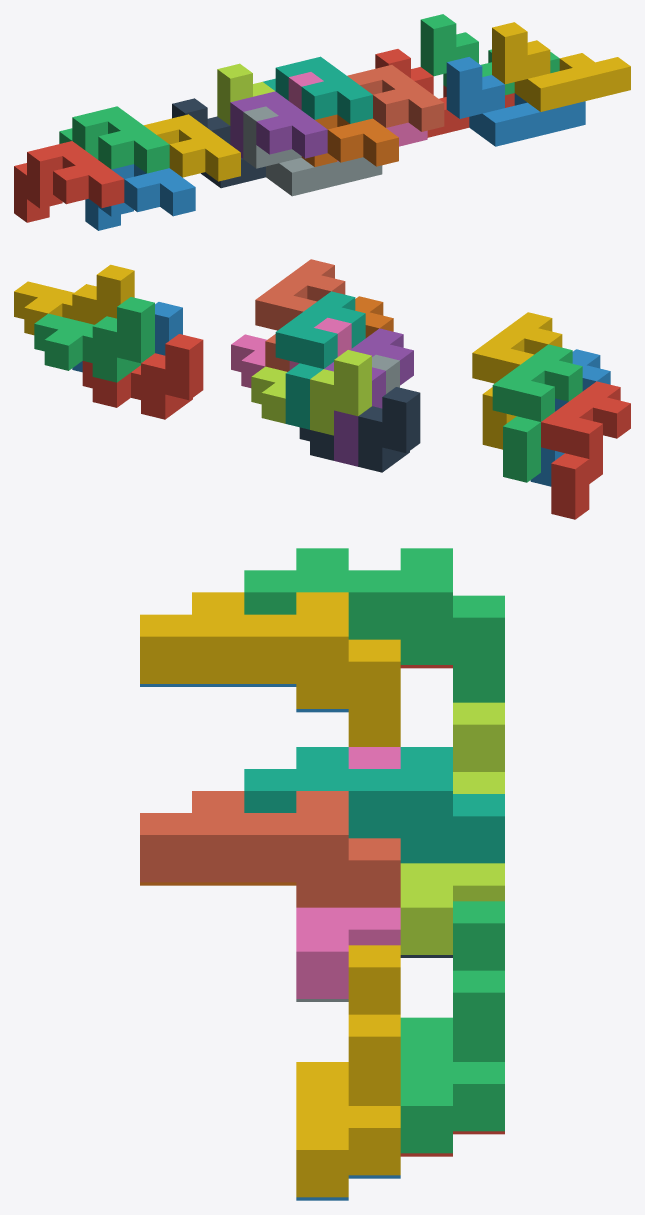
File: tiling.obj
3 views of the same model, one above another, from view 1: azimuth 30°, elevation 25°; view 2: azimuth 150°, elevation 25°; view 3: azimuth 270°, elevation 25° (orthographic). The views are drawn at different scales.
Parts seen in each view (by area): view 1: copy_2_domain_8, copy_2_domain_6, copy_1_domain_1, copy_1_domain_3, copy_2_domain_2, copy_1_domain_5, copy_1_domain_7, copy_1_domain_2, copy_1_domain_4, copy_1_domain_8, copy_1_domain_6, copy_2_domain_7 (+4 smaller); view 2: copy_1_domain_1, copy_1_domain_3, copy_2_domain_7, copy_1_domain_7, copy_2_domain_5, copy_2_domain_3, copy_2_domain_1, copy_1_domain_4, copy_2_domain_8, copy_1_domain_8, copy_1_domain_5, copy_2_domain_4 (+4 smaller); view 3: copy_1_domain_4, copy_1_domain_8, copy_1_domain_3, copy_2_domain_8, copy_2_domain_7, copy_1_domain_7, copy_2_domain_3, copy_2_domain_4.
Boxes of the visible parts, left/top/right/bottom form: copy_2_domain_8: left=492, top=22, right=630, bottom=111; copy_2_domain_6: left=446, top=57, right=585, bottom=146; copy_1_domain_1: left=14, top=141, right=124, bottom=222; copy_1_domain_3: left=59, top=106, right=169, bottom=173; copy_2_domain_2: left=243, top=106, right=382, bottom=196; copy_1_domain_5: left=230, top=91, right=327, bottom=158; copy_1_domain_7: left=263, top=56, right=372, bottom=123; copy_1_domain_2: left=85, top=164, right=195, bottom=230; copy_1_domain_4: left=144, top=114, right=240, bottom=181; copy_1_domain_8: left=347, top=65, right=444, bottom=131; copy_1_domain_6: left=301, top=114, right=398, bottom=166; copy_2_domain_7: left=420, top=14, right=559, bottom=95; copy_1_domain_1: left=541, top=381, right=630, bottom=519; copy_1_domain_3: left=492, top=344, right=582, bottom=482; copy_2_domain_7: left=34, top=297, right=154, bottom=382; copy_1_domain_7: left=275, top=291, right=365, bottom=429; copy_2_domain_5: left=82, top=334, right=203, bottom=419; copy_2_domain_3: left=251, top=350, right=371, bottom=435; copy_2_domain_1: left=299, top=387, right=420, bottom=472; copy_1_domain_4: left=472, top=312, right=562, bottom=449; copy_2_domain_8: left=14, top=264, right=134, bottom=335; copy_1_domain_8: left=255, top=259, right=345, bottom=371; copy_1_domain_5: left=324, top=328, right=413, bottom=466; copy_2_domain_4: left=231, top=317, right=351, bottom=387; copy_1_domain_4: left=140, top=592, right=400, bottom=746; copy_1_domain_8: left=140, top=791, right=400, bottom=907; copy_1_domain_3: left=244, top=548, right=504, bottom=702; copy_2_domain_8: left=296, top=945, right=400, bottom=1197; copy_2_domain_7: left=400, top=901, right=504, bottom=1153; copy_1_domain_7: left=244, top=747, right=504, bottom=863; copy_2_domain_3: left=400, top=702, right=504, bottom=954; copy_2_domain_4: left=296, top=747, right=400, bottom=998.
Size of the model in its own units: 25 by 4 by 7.
